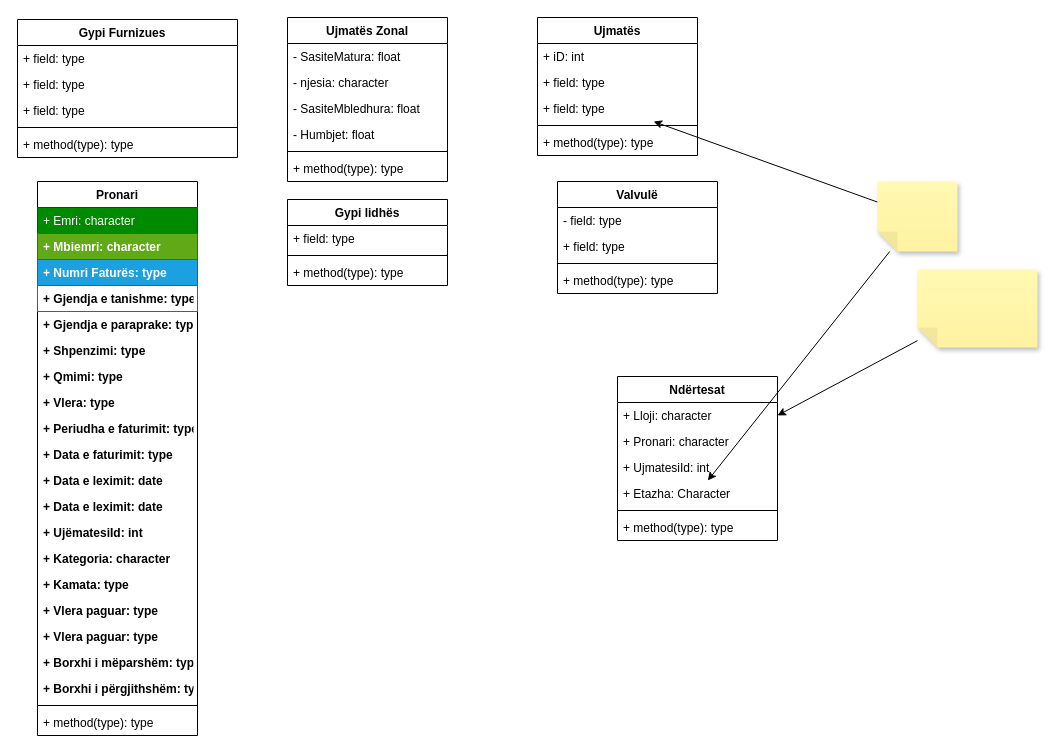
The diagram is 1061 pixels wide and 756 high, and some of its shapes have lost their labels. The centre of each missing label's shape, as x and y in pixels:
forenKey me tabelen e ujmatesave: (x=918, y=217)
lloji i nderetses: shtepi banimi apo ndertim kolektive: (x=978, y=309)
